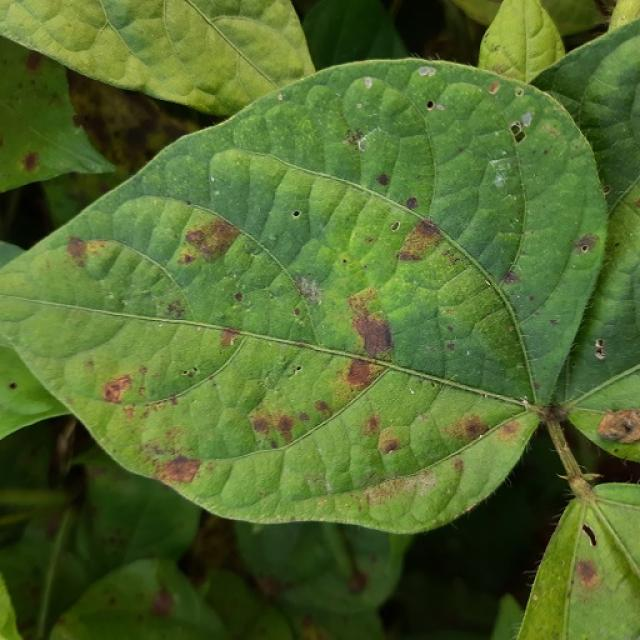Anthracnose: (362, 461, 457, 521), (348, 290, 395, 361), (184, 223, 243, 263), (249, 404, 301, 448), (396, 219, 445, 261), (67, 234, 114, 270), (152, 453, 203, 485), (597, 408, 639, 444), (446, 413, 489, 445), (344, 356, 383, 390), (294, 274, 323, 308), (101, 375, 134, 404), (532, 402, 571, 425), (574, 557, 600, 589), (149, 587, 174, 618), (509, 112, 533, 142), (378, 428, 403, 456), (254, 574, 281, 598), (299, 617, 327, 640), (574, 233, 599, 254), (343, 128, 366, 150), (497, 419, 521, 439), (347, 571, 367, 594), (220, 327, 241, 348), (164, 298, 185, 319), (185, 229, 208, 248), (251, 416, 271, 436), (363, 415, 381, 437), (581, 524, 597, 547), (22, 151, 39, 172), (501, 268, 521, 285), (26, 51, 43, 71), (593, 338, 607, 360), (314, 400, 332, 415), (177, 252, 196, 266), (490, 63, 508, 75), (72, 113, 86, 128), (426, 102, 445, 113), (181, 367, 199, 378), (301, 614, 314, 629), (376, 173, 390, 186), (405, 196, 419, 209), (453, 457, 464, 473), (418, 66, 434, 77), (521, 112, 533, 126), (488, 82, 500, 94), (390, 221, 401, 232), (514, 87, 524, 97), (108, 596, 117, 607), (364, 77, 373, 88), (234, 292, 243, 302), (446, 342, 456, 351), (602, 185, 611, 195), (549, 318, 559, 326), (8, 382, 18, 390), (292, 210, 301, 218), (446, 325, 454, 333), (294, 307, 301, 315), (295, 365, 302, 372), (615, 242, 622, 248), (342, 258, 348, 264), (182, 370, 188, 375)
Blackgram: (0, 21, 639, 532)
